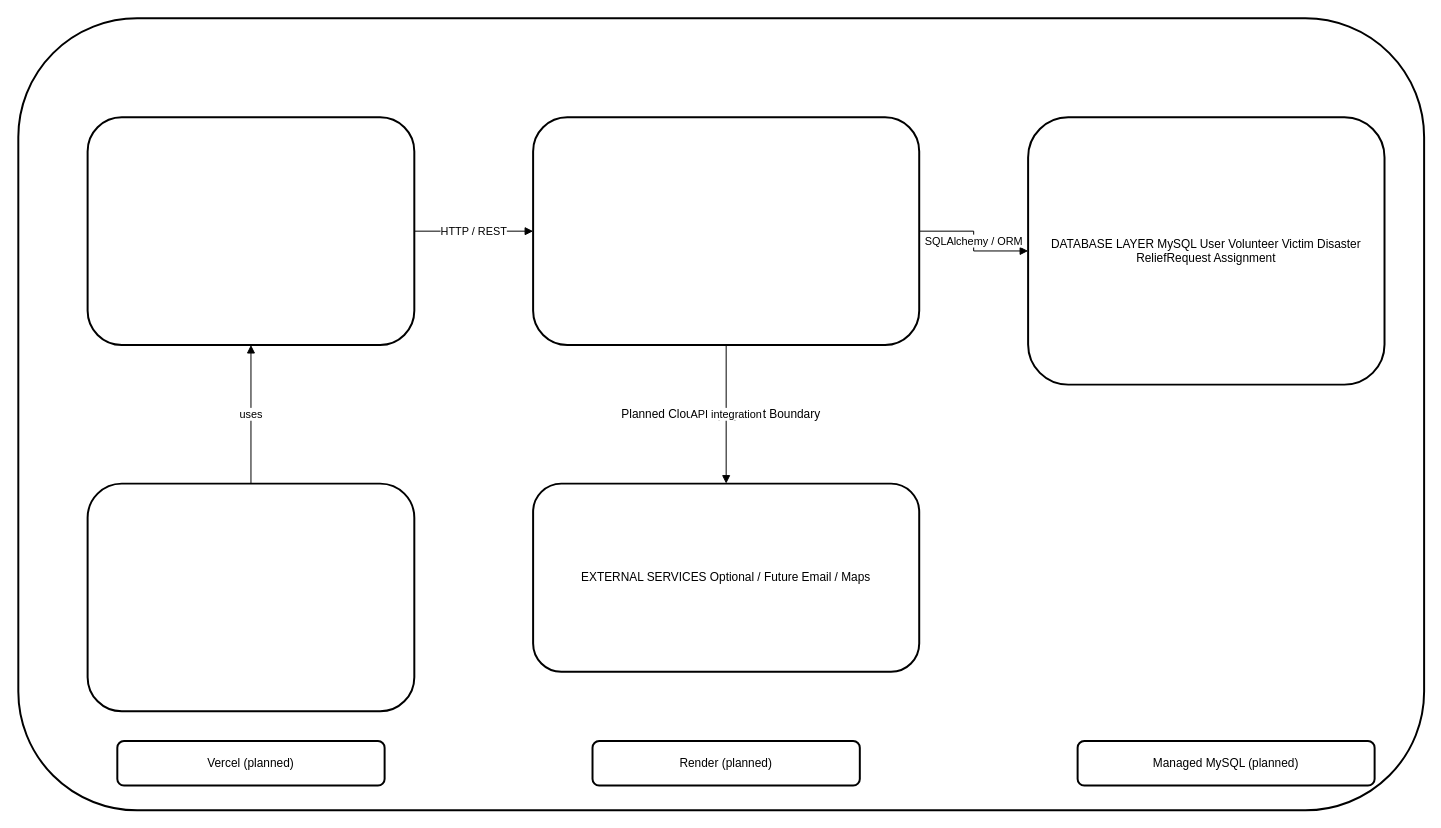
This 1441x828 diagram has some shape labels left out. The shapes that lost their labels are listed below. From the top down, each one's centre as x and y in pixels, then its label:
the point at 250,231: CLIENT LAYER React.js Frontend Web Browser Role-based UI
the point at 726,231: BACKEND / API LAYER Python + FastAPI REST API Authentication Business Services
the point at 250,597: USERS Administrator Volunteer Victim
